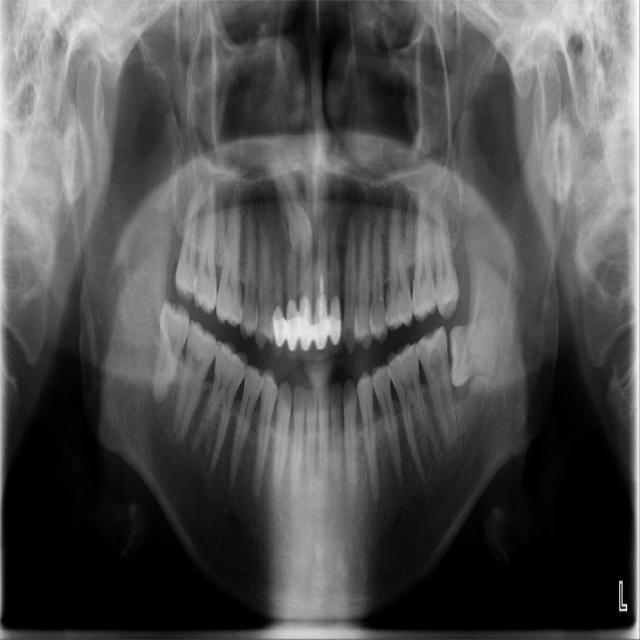3M ESPE Implant: (174, 184, 203, 301)
52: (312, 294, 329, 359), (298, 295, 315, 357), (328, 297, 344, 355), (270, 304, 287, 355), (284, 299, 299, 356)
73: (605, 589, 610, 600)
BioHorizons Implant: (411, 189, 444, 322)
BioLife Implant: (434, 196, 461, 322)
Biomet 3i Implant: (448, 319, 499, 388)
Blue Sky Bio Implant: (414, 325, 461, 451)
Caries: (192, 176, 221, 316)
Implant: (170, 320, 222, 446)
Keystone Dental Implant: (152, 299, 193, 403)
